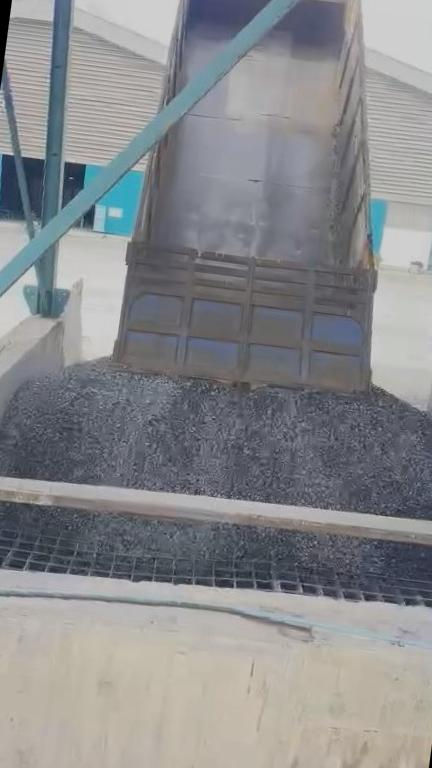gravel: (0, 363, 432, 521), (0, 505, 432, 579)
